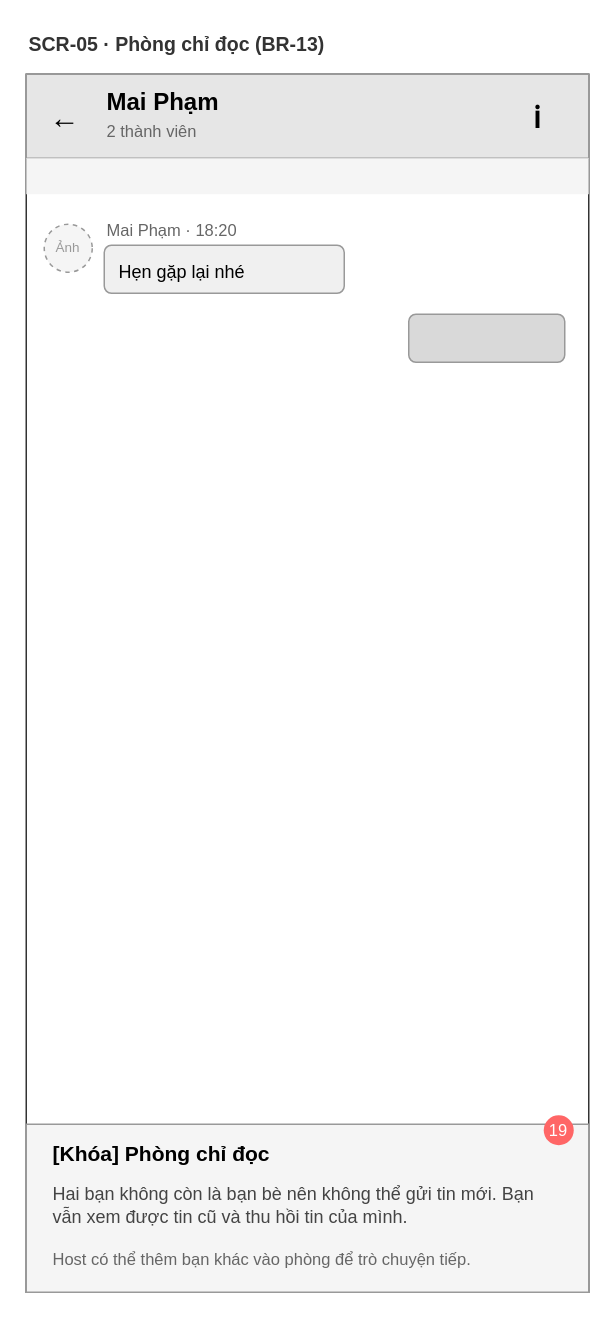
This 615x1319 diagram has some shape labels left out. The shapes that lost their labels are listed below. From the top down, each one's centre as x and y in pixels, then its label:
[307,176]: Phòng lâu dài · tin được giữ vĩnh viễn
[486,337]: Bye!
